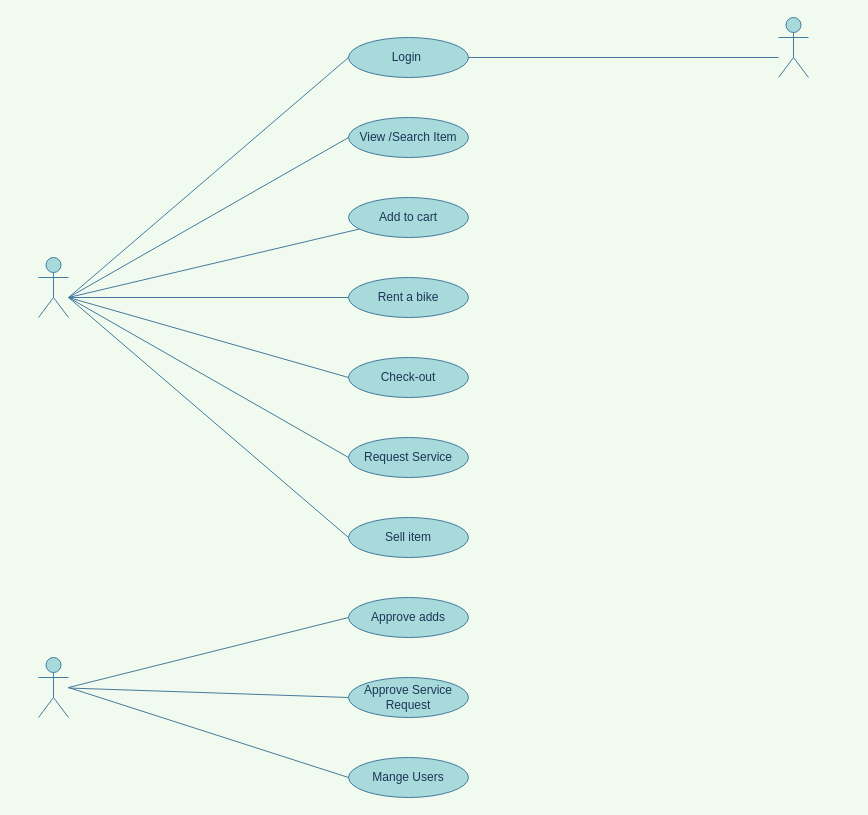
Some shapes in this 868 by 815 pixel diagram are drawn without their labels. The box of each missing label's shape, as (x1, y1, x2, y2) in pixels:
Admin: (38, 656, 68, 718)
Google Authenticator/ Registering: (778, 16, 808, 78)
Website User: (38, 256, 68, 318)
